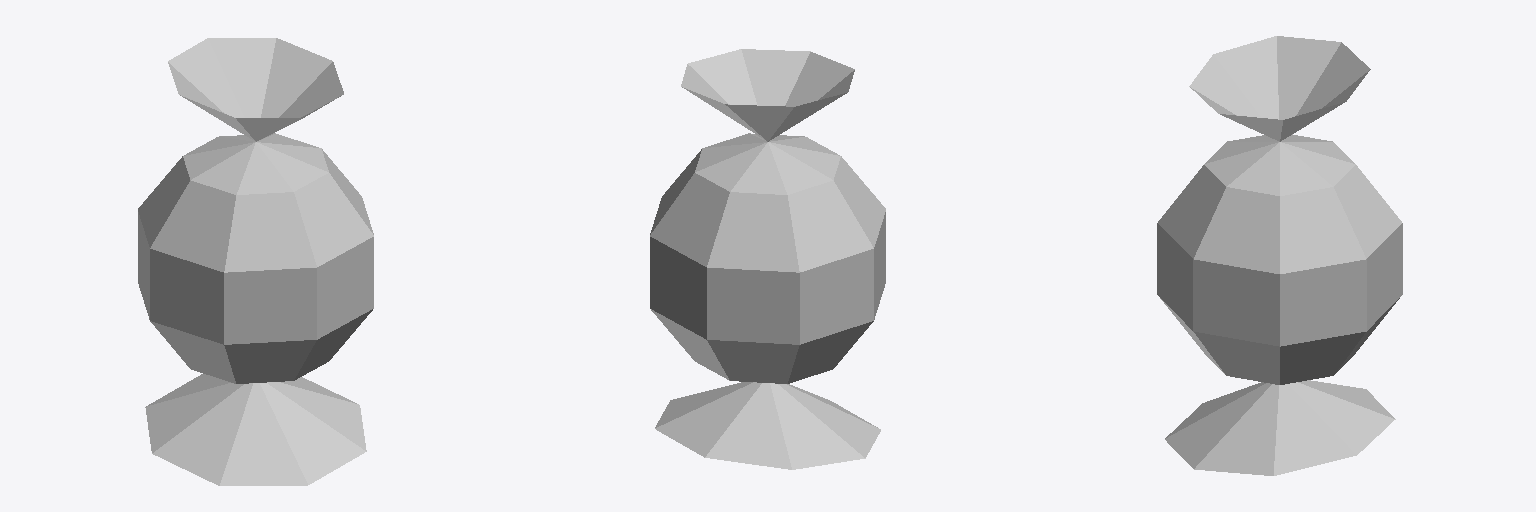
Rendered from candy_2.obj.
3 views of the same model, side by side, from view 1: azimuth 30°, elevation 25°; view 2: azimuth 150°, elevation 25°; view 3: azimuth 270°, elevation 25° (orthographic).
Parts seen in each view (by area): view 1: candy_2; view 2: candy_2; view 3: candy_2.
Boxes of the visible parts, x1,y1,x2,y2 form: candy_2: [138, 38, 373, 485]; candy_2: [650, 49, 885, 469]; candy_2: [1157, 36, 1402, 475].
Bounding box in the file's own units: 1.9 × 3.18 × 1.9.